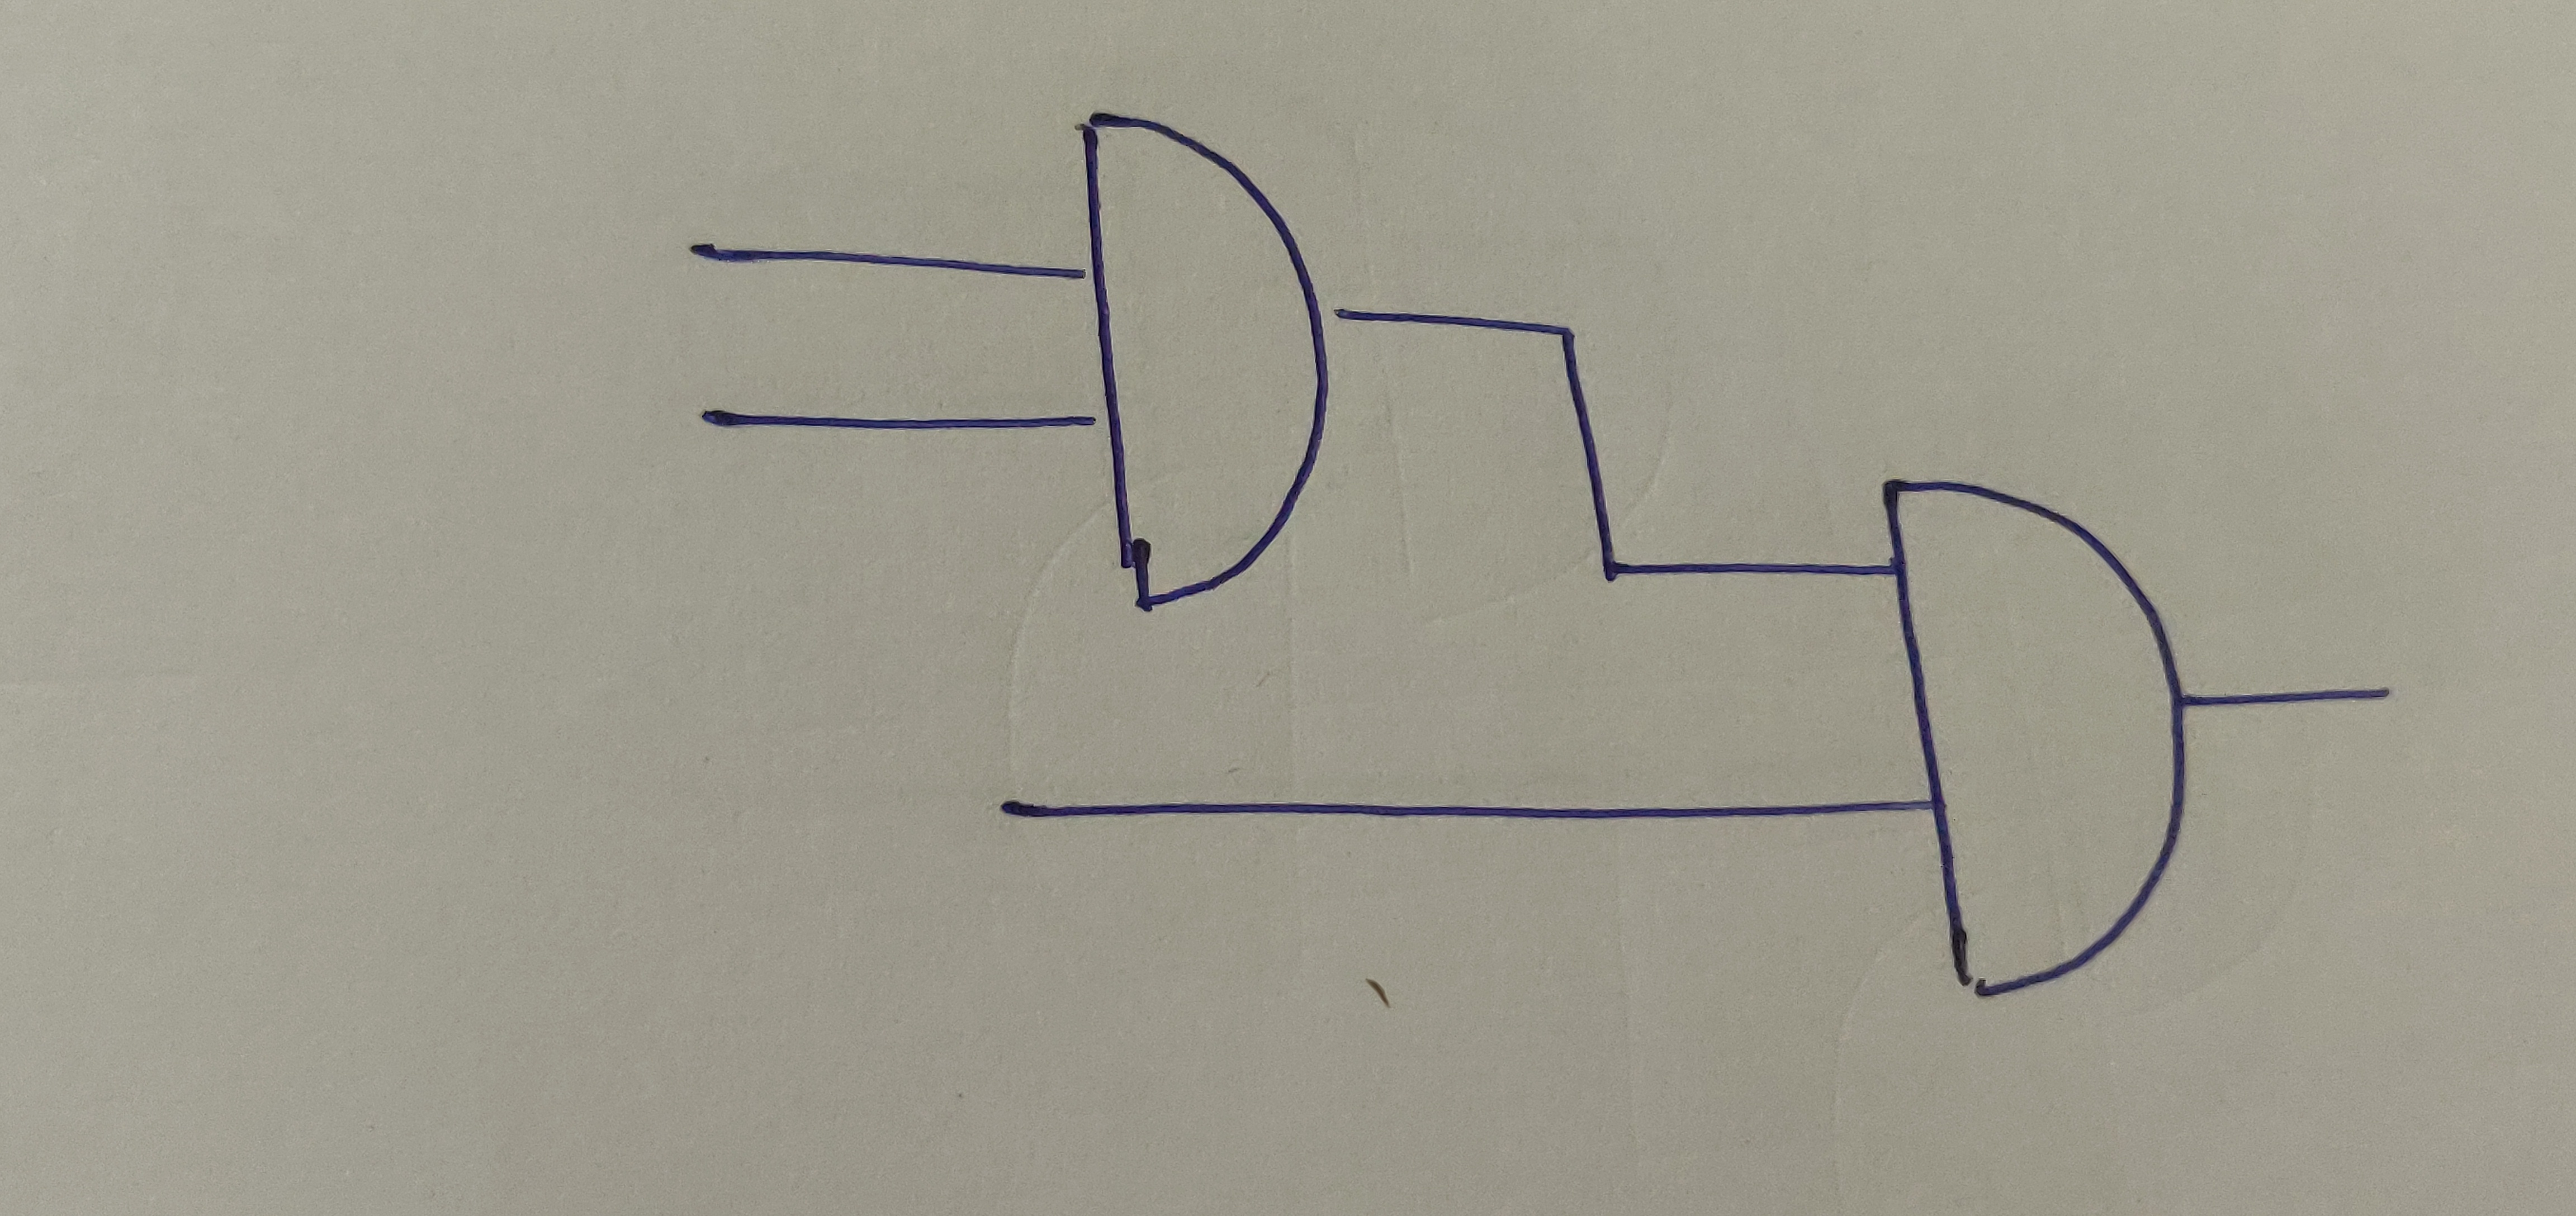and: (1876, 477, 2190, 994), (1078, 113, 1334, 610)
